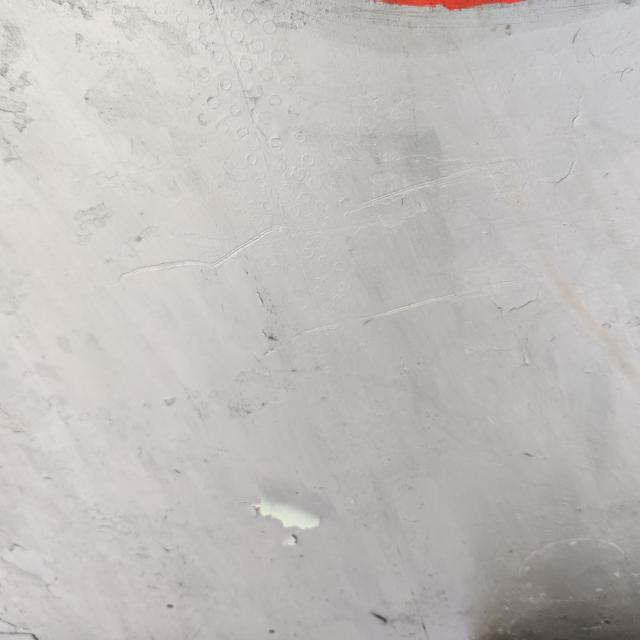paint-off: (239, 482, 337, 548)
scratch: (100, 205, 294, 296), (335, 145, 510, 224), (346, 269, 501, 337), (255, 309, 342, 364)
